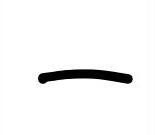minus: (38, 69, 133, 85)
